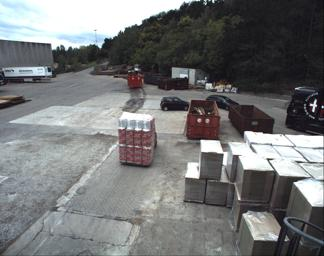rockwool_batts: (118, 110, 154, 164)
